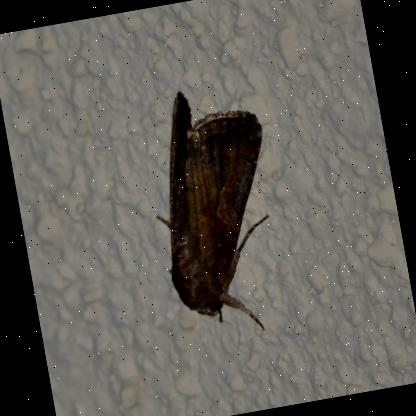Fall Armyworm Moth: (132, 74, 300, 349)
